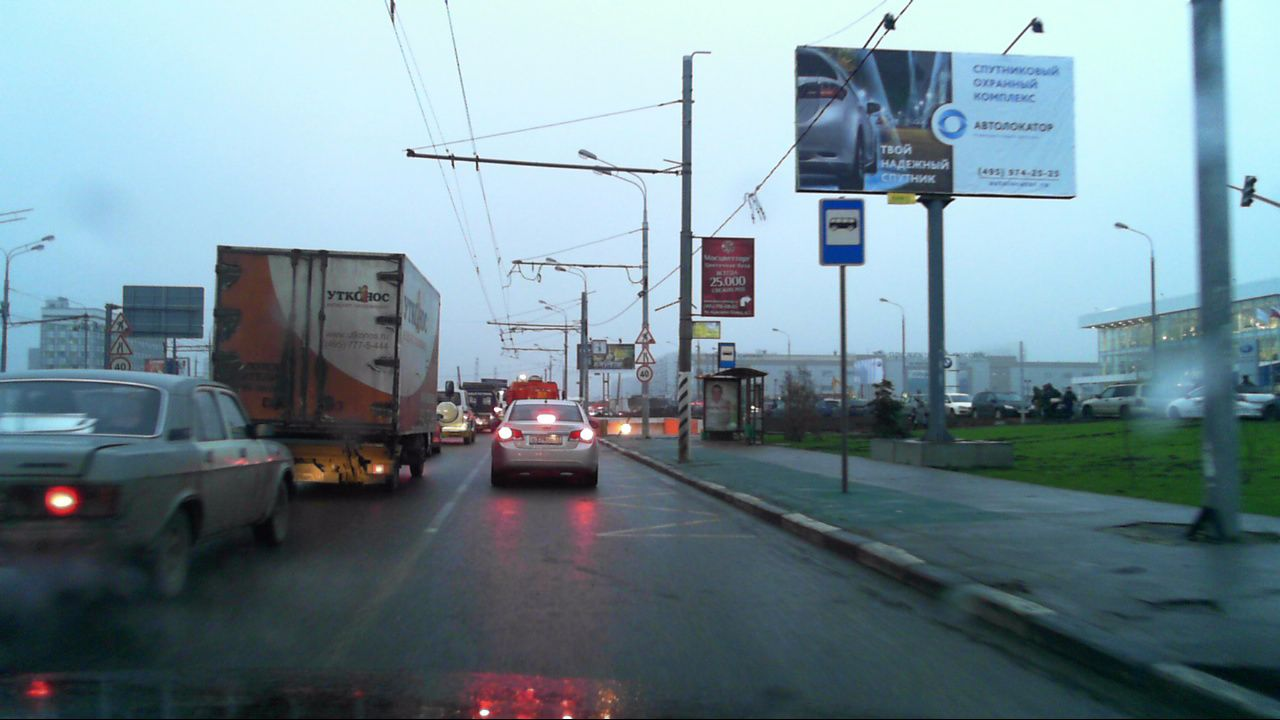speed_warning_40: (110, 357, 130, 375)
